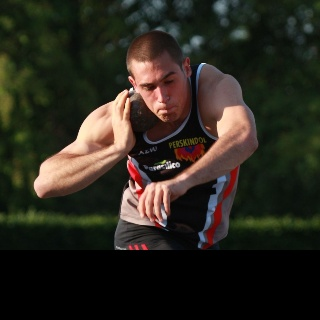without_mask: (134, 60, 187, 122)
